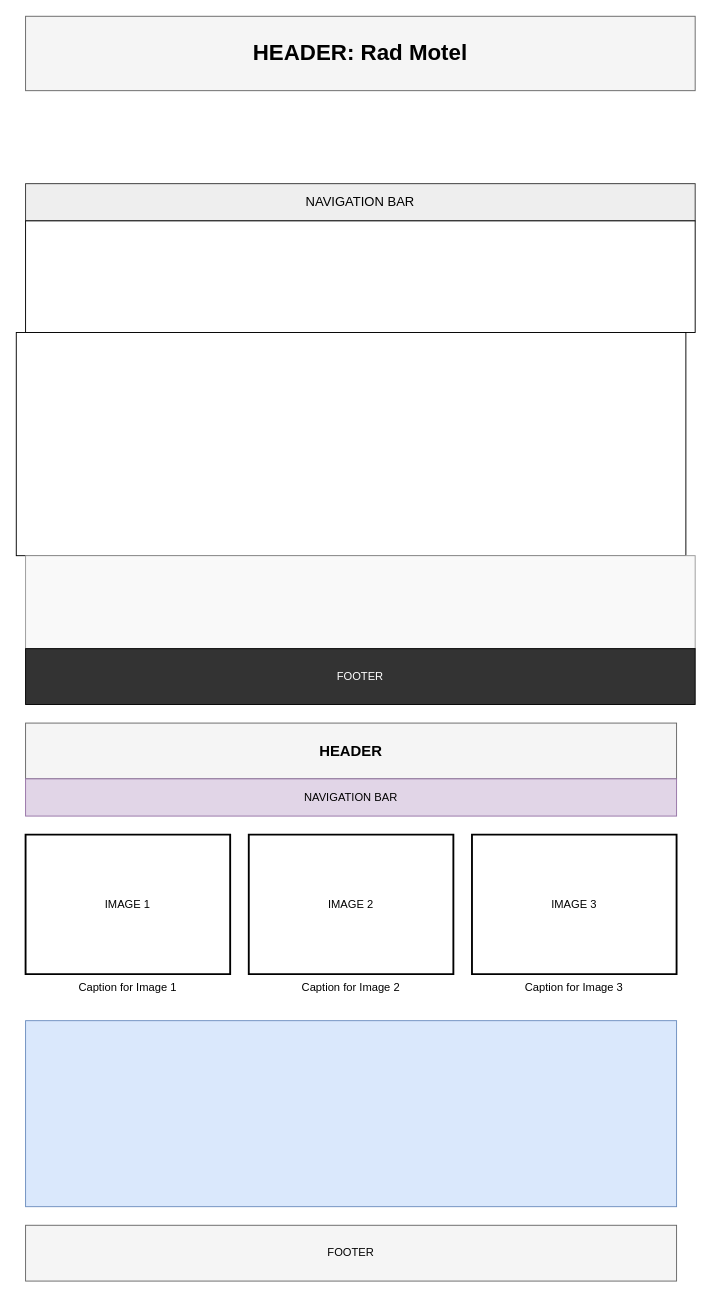
Some shapes in this 711 by 1297 pixel diagram are drawn without their labels. The centre of each missing label's shape, as x and y in pixels:
"Article section" belongs at (350,444).
"ASIDE (Why choose us)" belongs at (360,602).
"MAIN CONTENT (Welcome text)" belongs at (360,276).
"VIDEO SECTION" belongs at (351,1113).
